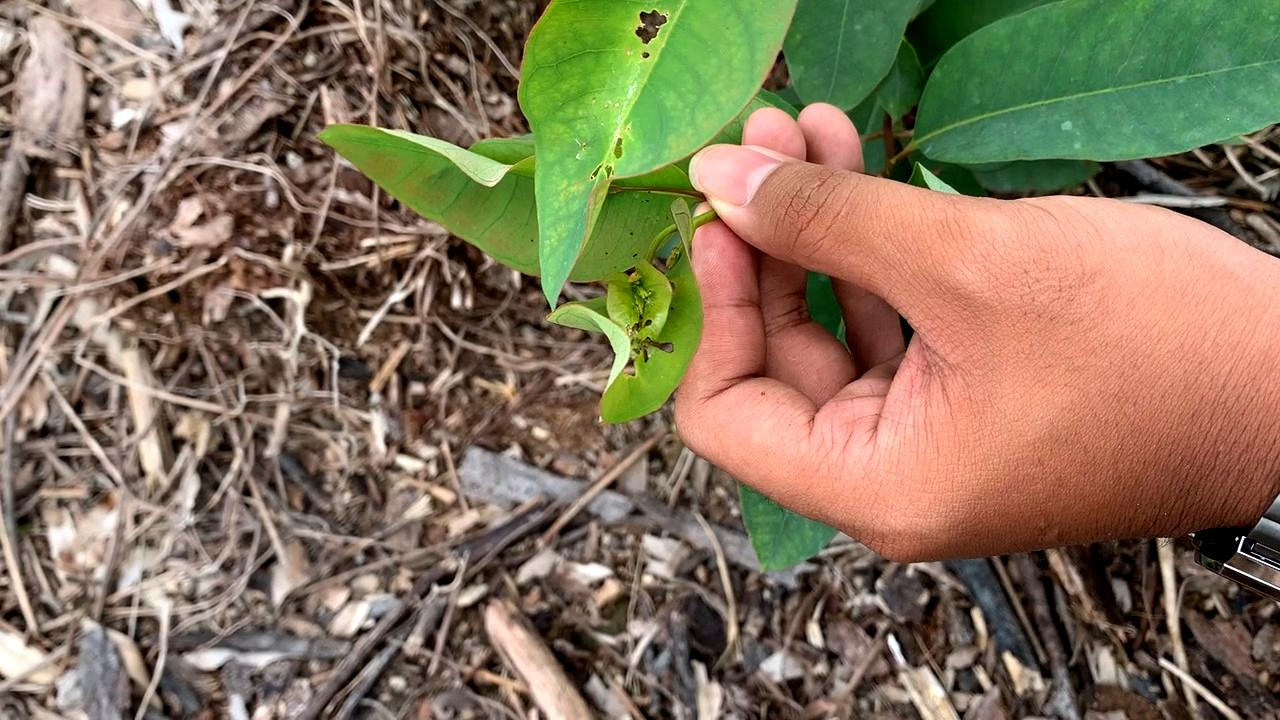Leaf Roller - Leaf: (586, 249, 693, 386)
